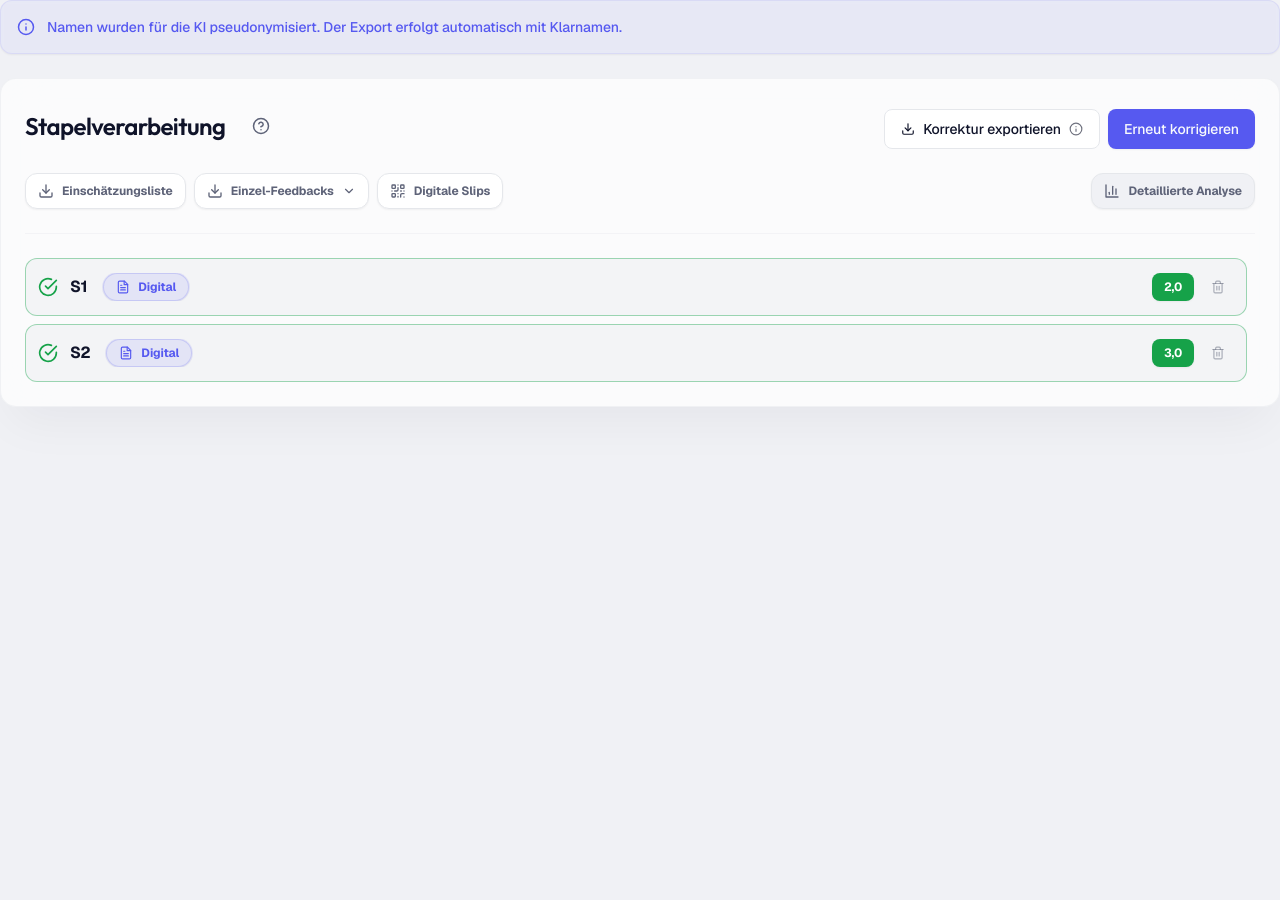
it: BatchProcessor Integration (Steel Thread A) › warnt vor dem stapelweiten Wiederlauf, dass die Bewertungen verworfen werden
This screenshot has width=1280, height=900.
Click the button "Erneut korrigieren". click: {"x": 1181, "y": 129}
box: left=1108, top=109, right=1255, bottom=149
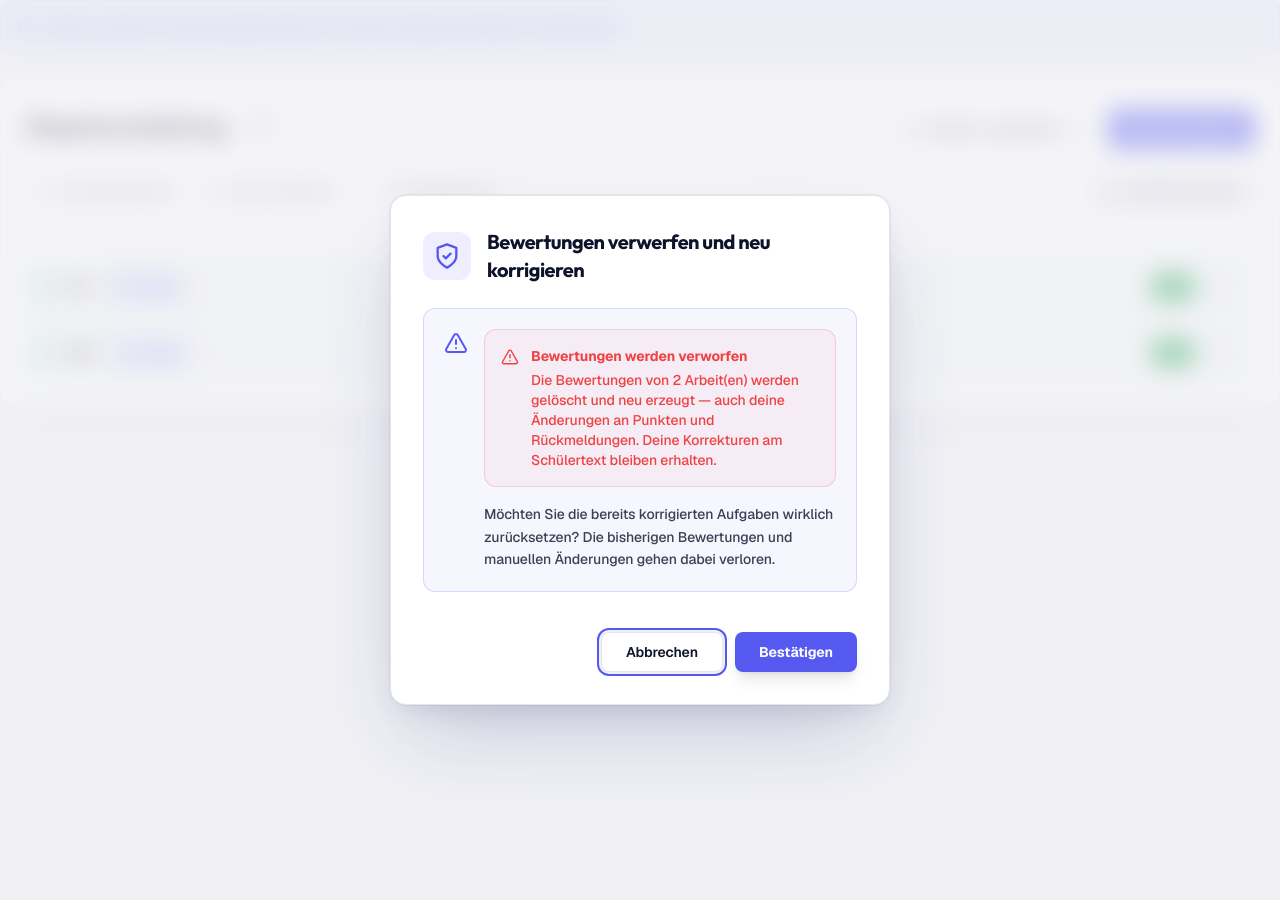
Expected: the text "Bewertungen werden verworfen" is shown, left=531, top=347, right=747, bottom=365
Expected: the text "Bewertungen von 2 Arbeit(en)" is shown, left=531, top=370, right=819, bottom=470
Expected: the heading "Bewertungen verwerfen und neu korrigieren" is shown, left=487, top=229, right=770, bottom=282
